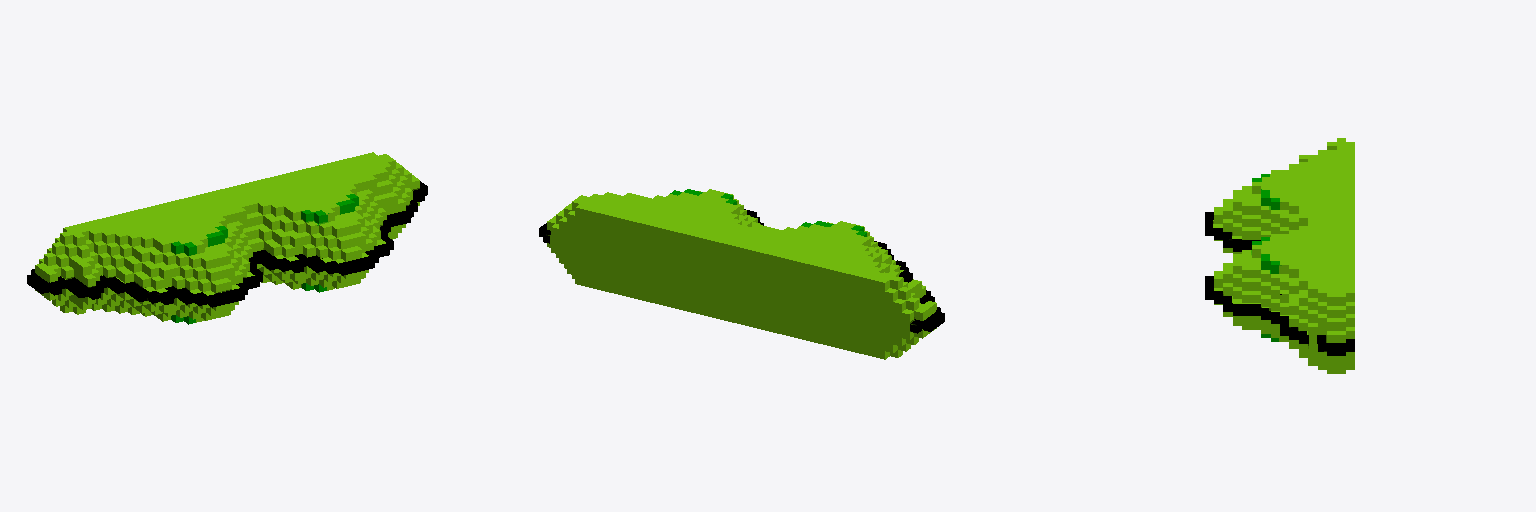
3 views of the same model, side by side, from view 1: azimuth 30°, elevation 25°; view 2: azimuth 150°, elevation 25°; view 3: azimuth 270°, elevation 25° (orthographic).
Parts seen in each view (by area): view 1: bush_2; view 2: bush_2; view 3: bush_2.
Boxes of the visible parts, x1,y1,x2,y2 form: bush_2: [27, 152, 427, 324]; bush_2: [539, 189, 944, 359]; bush_2: [1205, 138, 1354, 373].
Bounding box in the file's own units: 480 × 90 × 160.
Materials: 1 (1 with a texture image).